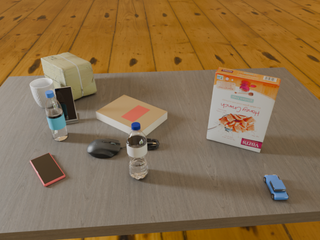book: (96, 95, 167, 136)
bottle: (127, 122, 148, 180), (45, 90, 68, 141)
box: (207, 67, 281, 152), (41, 52, 97, 100)
cup: (30, 78, 56, 108)
mouse: (87, 139, 124, 158)
phone: (30, 153, 65, 186), (54, 86, 77, 121)
toy_car: (264, 175, 288, 200)
